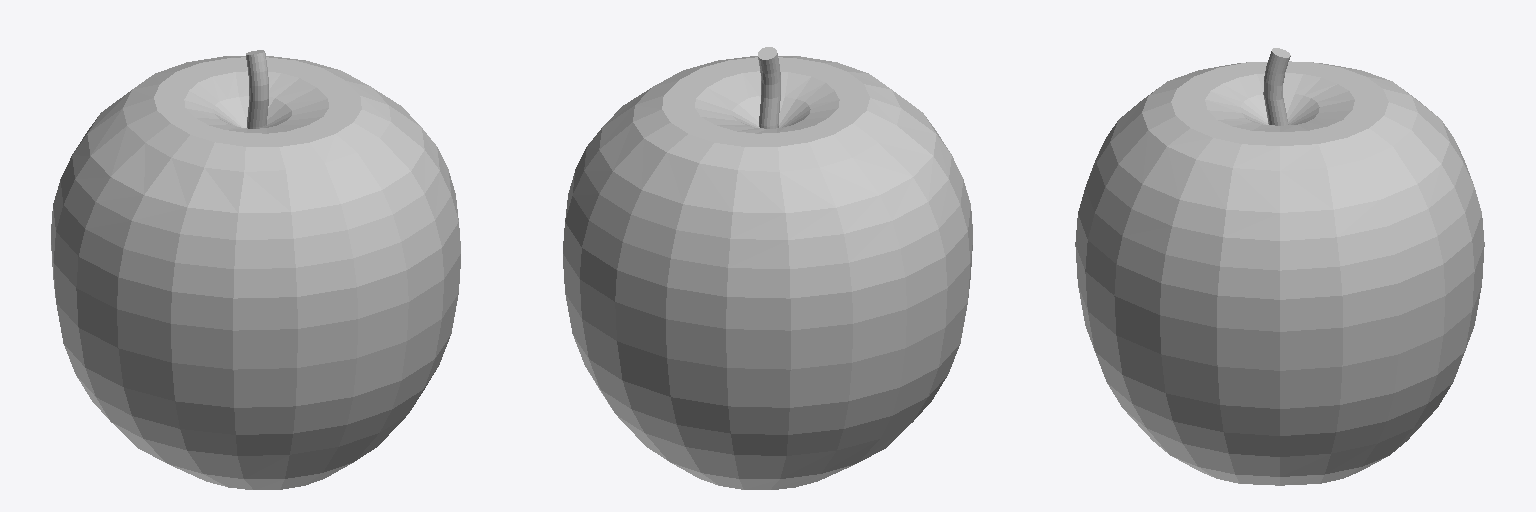
Rendered from apple.obj.
3 views of the same model, side by side, from view 1: azimuth 30°, elevation 25°; view 2: azimuth 150°, elevation 25°; view 3: azimuth 270°, elevation 25° (orthographic).
Visible parts, largest first — view 1: pCylinder2; view 2: pCylinder2; view 3: pCylinder2.
Boxes of the visible parts, x1=… form: pCylinder2: x1=51, y1=50, x2=460, y2=489; pCylinder2: x1=563, y1=47, x2=972, y2=489; pCylinder2: x1=1075, y1=48, x2=1484, y2=485.
Bounding box in the file's own units: 1.03 × 1.13 × 1.02.